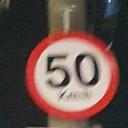speed_limit_50: (24, 31, 120, 118)
